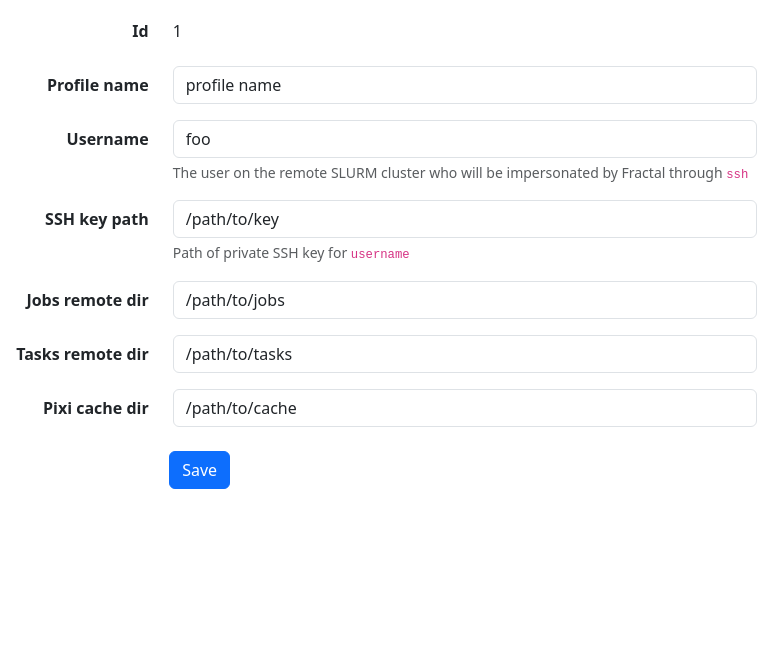
it: ProfileEditor › Edit SLURM SSH profile - validation error
The image size is (778, 656).
Clear the field labelled "Profile name": (465, 85) 173,66 -> 757,104
Clear the field labelled "Username": (465, 139) 173,120 -> 757,158
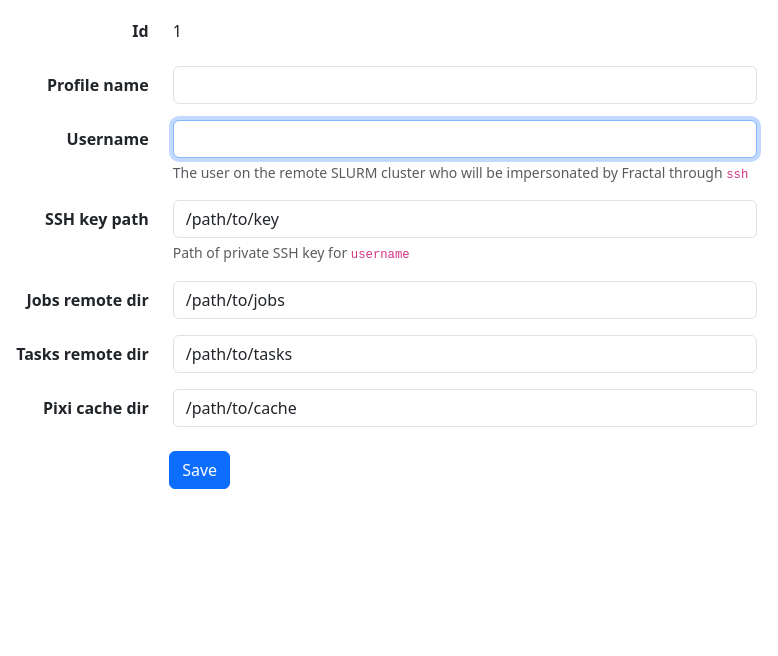
Clear the field labelled "SSH key path": (465, 219) 173,200 -> 757,238
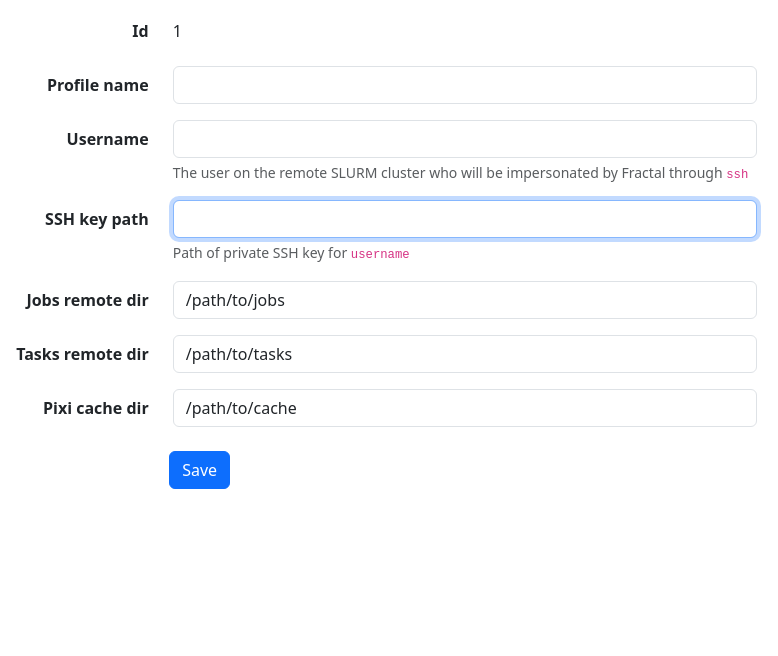
Clear the field labelled "Jobs remote dir": (465, 300) 173,281 -> 757,319
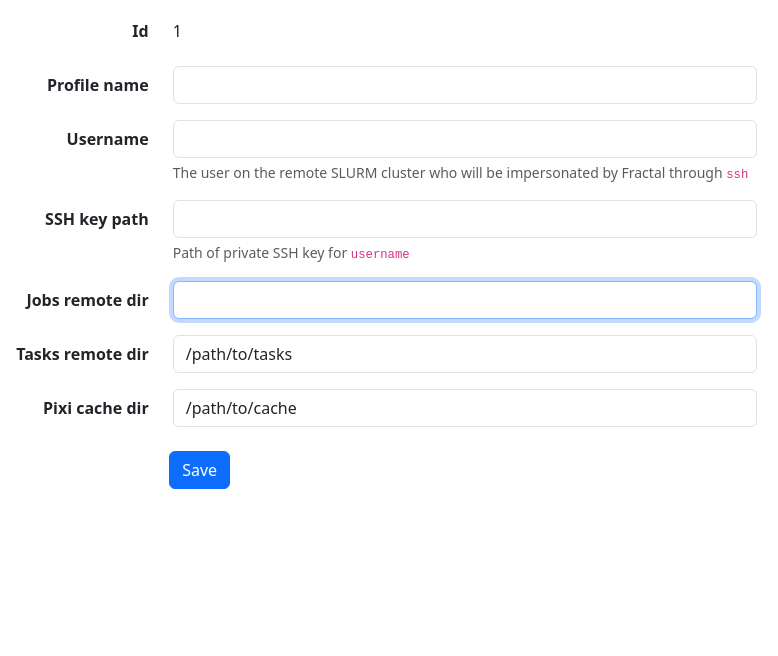
Clear the field labelled "Tasks remote dir": (465, 354) 173,335 -> 757,373
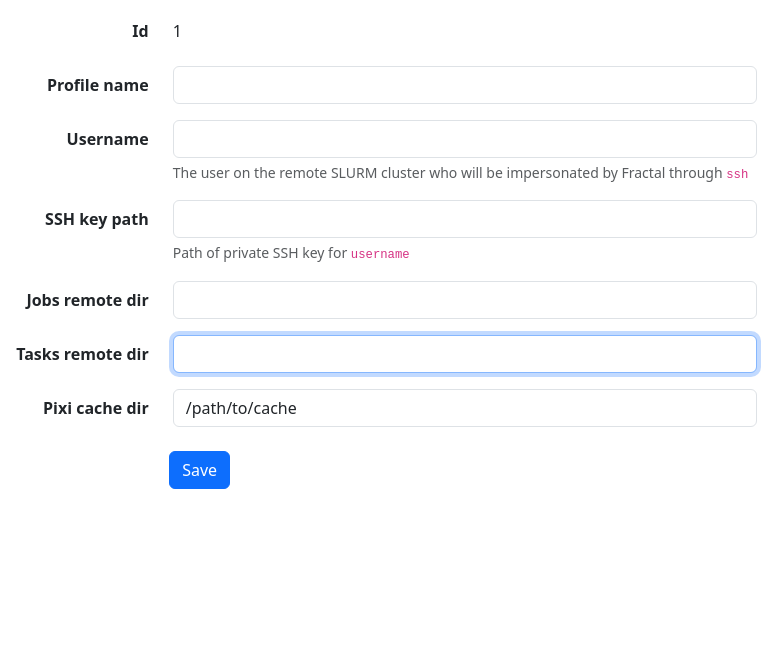
Clear the field labelled "Pixi cache dir": (465, 408) 173,389 -> 757,427
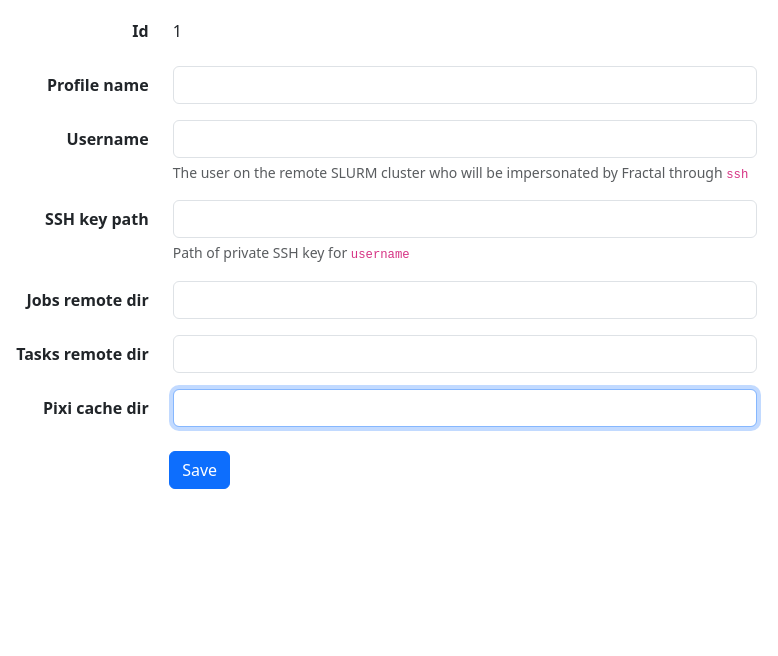
Click the button "Save": (200, 470) 169,451 -> 230,489
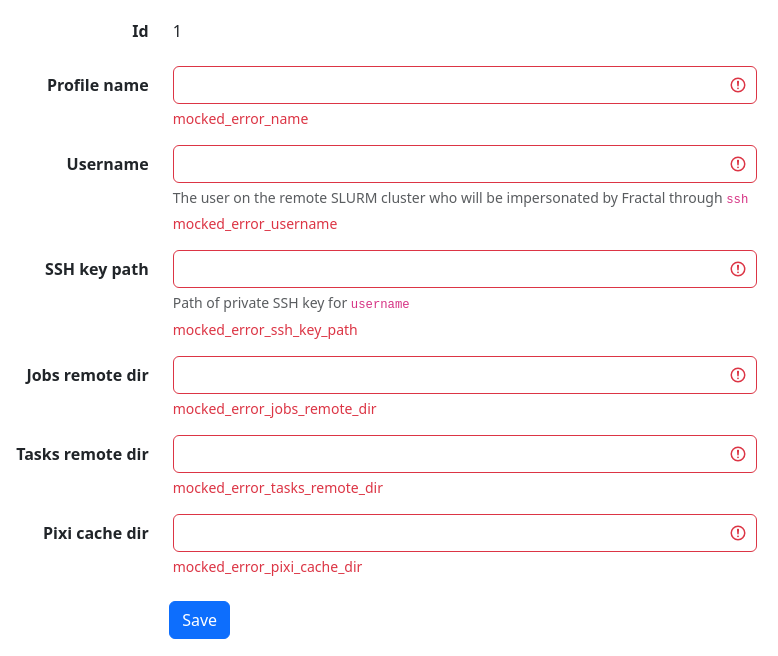
Expected: the text "mocked_error_name" is shown, 173,109 -> 308,128
Expected: the text "mocked_error_username" is shown, 173,214 -> 337,233
Expected: the text "mocked_error_ssh_key_path" is shown, 173,320 -> 358,339
